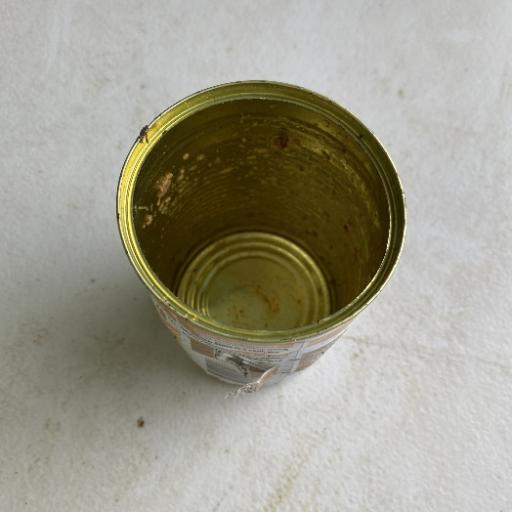Metal: (114, 78, 408, 393)
